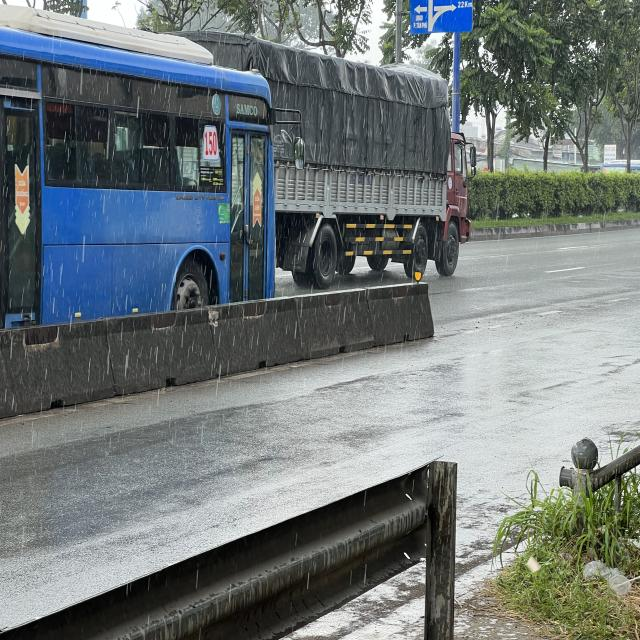coach: (0, 12, 275, 307)
truck: (192, 31, 475, 275)
